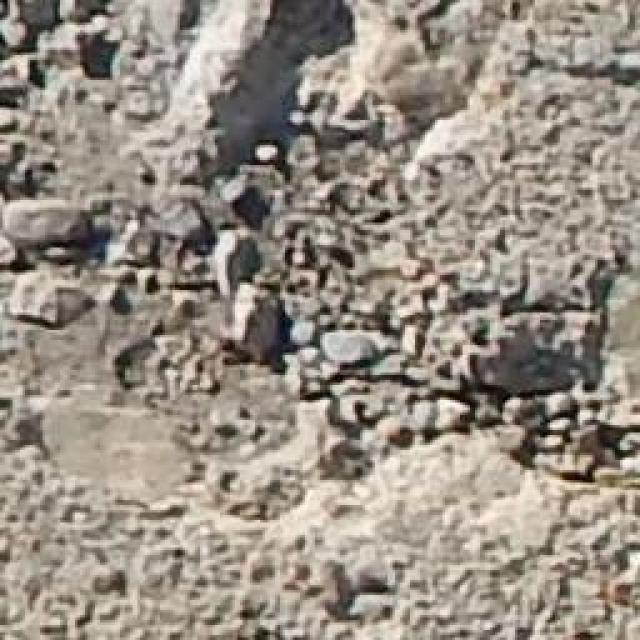concrete-crack: (0, 0, 640, 530)
